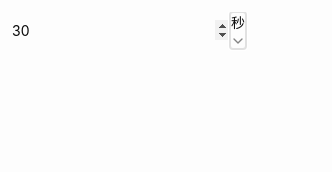
时长输入 › 切换单位时保留已填写数值
The image size is (332, 172).
Press ArrowDown in the dropdown named "时长单位", box left=230, top=12, right=246, bottom=49
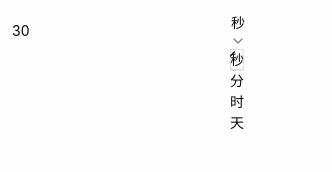
Click the option "时" at {"x": 237, "y": 102}, box left=230, top=91, right=244, bottom=112
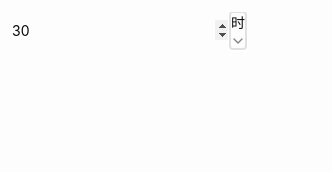
Expected: the number field holds "30", left=12, top=12, right=230, bottom=49
Expected: the dropdown named "时长单位" reads "时", left=230, top=12, right=246, bottom=49
